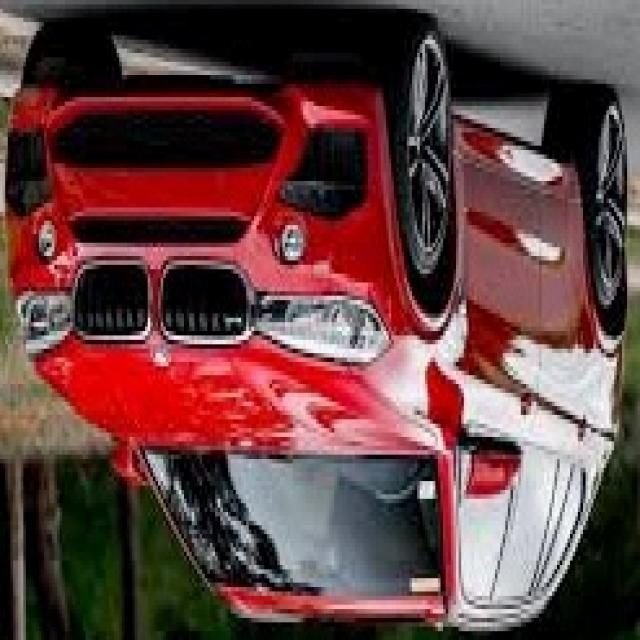red: (5, 74, 640, 628)
